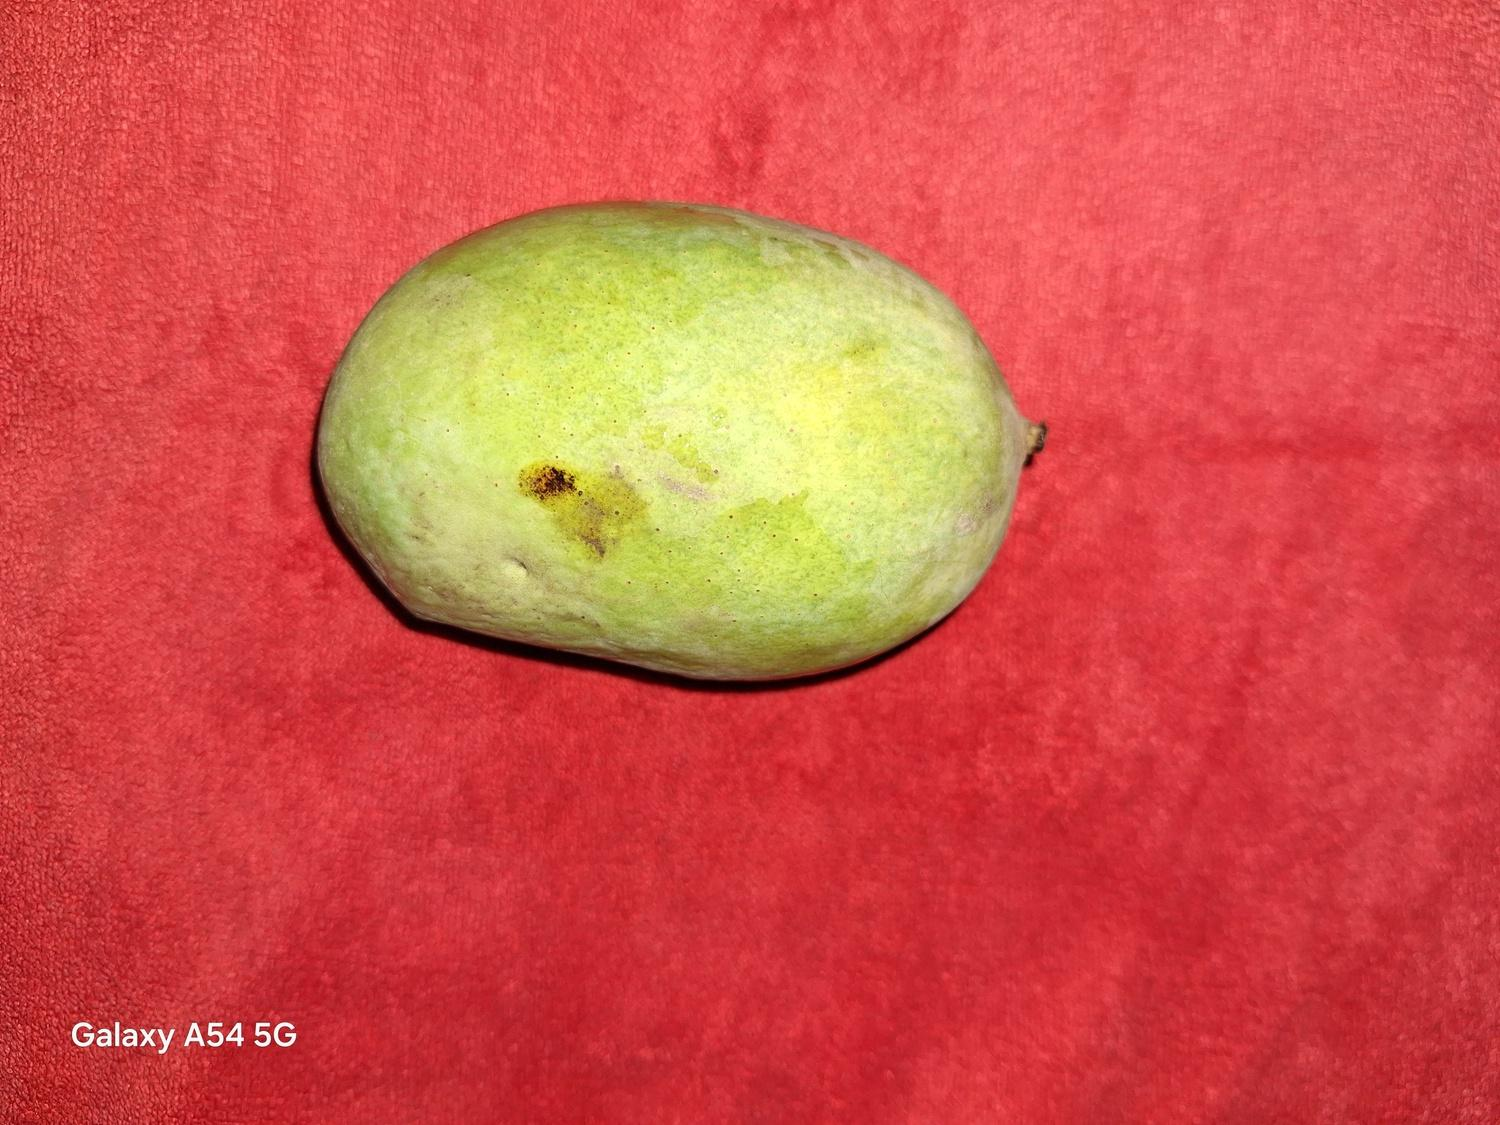mango: (313, 196, 1048, 683)
